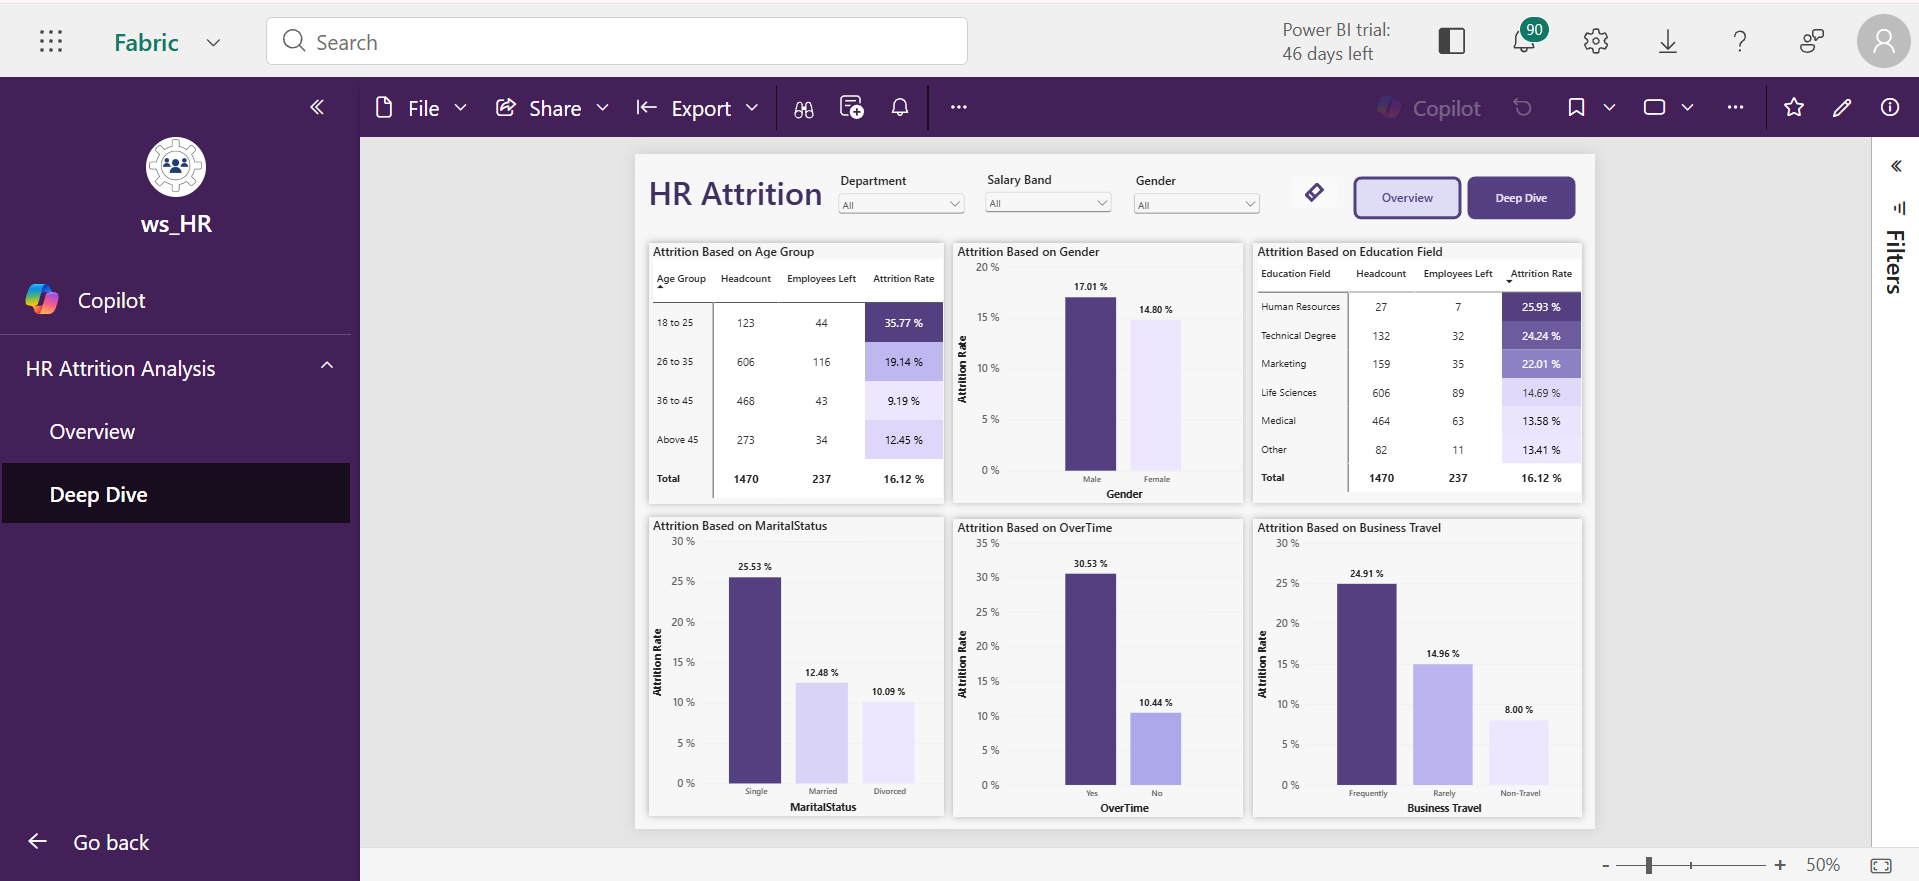

The page's visual inventory and layout, read from the dashboard file:
{"tool":"powerbi","page":{"name":"Deep Dive","canvas":[1280,900],"ordinal":1},"visuals":[{"type":"clusteredColumnChart","title":"Attrition Based on MaritalStatus","fields":{"Category":["HR_employees.MaritalStatus"],"Y":["HR_employees.Attrition %"]},"box":[18.4,483.7,393.9,398],"z":0},{"type":"clusteredColumnChart","title":"Attrition Based on Business Travel","fields":{"Category":["HR_employees.BusinessTravel"],"Y":["HR_employees.Attrition %"]},"box":[824.5,485.7,438.8,398],"z":1000},{"type":"clusteredColumnChart","title":"Attrition Based on OverTime","fields":{"Category":["HR_employees.OverTime"],"Y":["HR_employees.Attrition %"]},"box":[424.5,485.7,385.7,398],"z":2000},{"type":"clusteredColumnChart","title":"Attrition Based on Gender","fields":{"Category":["HR_employees.Gender"],"Y":["HR_employees.Attrition %"]},"box":[424.5,118.4,385.7,346.9],"z":3000},{"type":"pivotTable","title":"Attrition Based on Age Group","fields":{"Rows":["HR_employees.Age Group"],"Values":["HR_employees.Total Employees","HR_employees.Employees Left","HR_employees.Attrition %"]},"box":[18,118,394,348],"z":4000},{"type":"pivotTable","title":"Attrition Based on Education Field","fields":{"Rows":["HR_employees.EducationField"],"Values":["HR_employees.Total Employees","HR_employees.Employees Left","HR_employees.Attrition %"]},"box":[824.5,118.4,438.8,346.9],"z":5000},{"type":"textbox","box":[17.5,22.5,280,77.5],"z":6000},{"type":"actionButton","box":[875,30,60,42.5],"z":10000},{"type":"pageNavigator","box":[958.3,30,297.5,57.5],"z":11000},{"type":"slicer","fields":{"Values":["HR_employees.Department"]},"box":[265,23.7,178,73],"z":11001},{"type":"slicer","fields":{"Values":["HR_employees.Salary Band"]},"box":[462.3,22.7,178.3,73.3],"z":11002},{"type":"slicer","fields":{"Values":["HR_employees.Gender"]},"box":[660,24.3,178,73],"z":11003}]}

Visuals, with their boxes on the page's 1280x900 design canvas (x1, y1, x2, y2). These are canvas units, not pixel positions in the 1919x881 screenshot, which may show the page scaled, cropped or inside an application window:
"Attrition Based on MaritalStatus" clusteredColumnChart: 18, 484, 412, 882
"Attrition Based on Business Travel" clusteredColumnChart: 824, 486, 1263, 884
"Attrition Based on OverTime" clusteredColumnChart: 424, 486, 810, 884
"Attrition Based on Gender" clusteredColumnChart: 424, 118, 810, 465
"Attrition Based on Age Group" pivotTable: 18, 118, 412, 466
"Attrition Based on Education Field" pivotTable: 824, 118, 1263, 465
textbox: 18, 22, 298, 100
actionButton: 875, 30, 935, 72
pageNavigator: 958, 30, 1256, 88
slicer - HR_employees.Department: 265, 24, 443, 97
slicer - HR_employees.Salary Band: 462, 23, 641, 96
slicer - HR_employees.Gender: 660, 24, 838, 97
